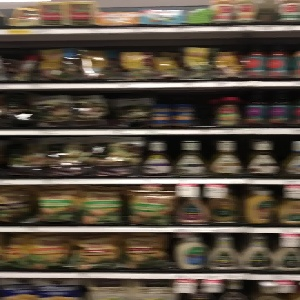void: (193, 83, 215, 131)
